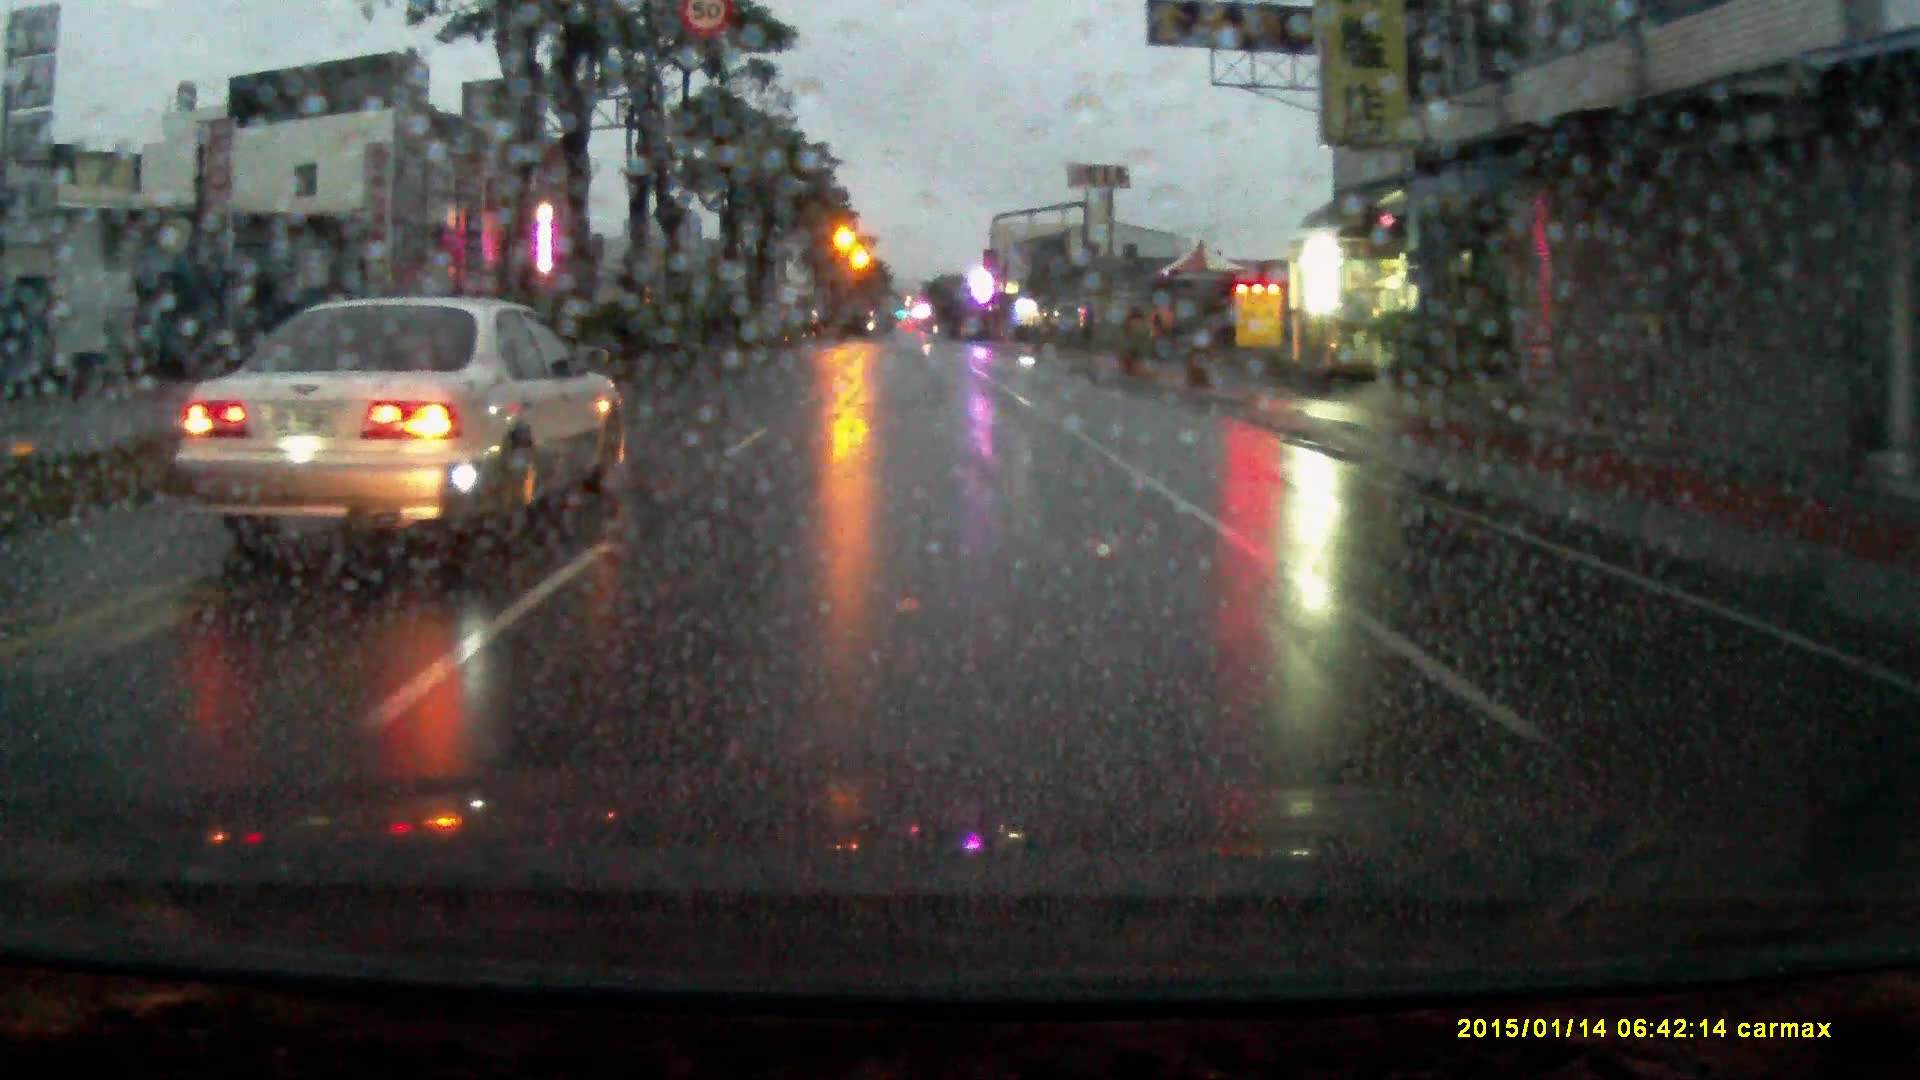vehicle: (173, 289, 632, 553)
